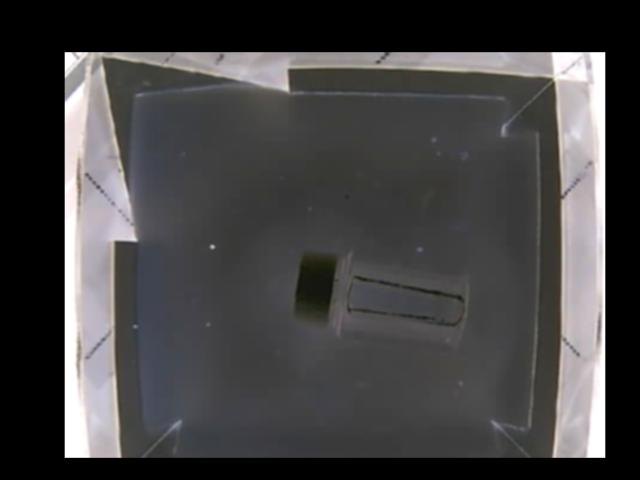Bottle: (291, 245, 467, 348)
